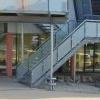stairs: (16, 25, 86, 87)
